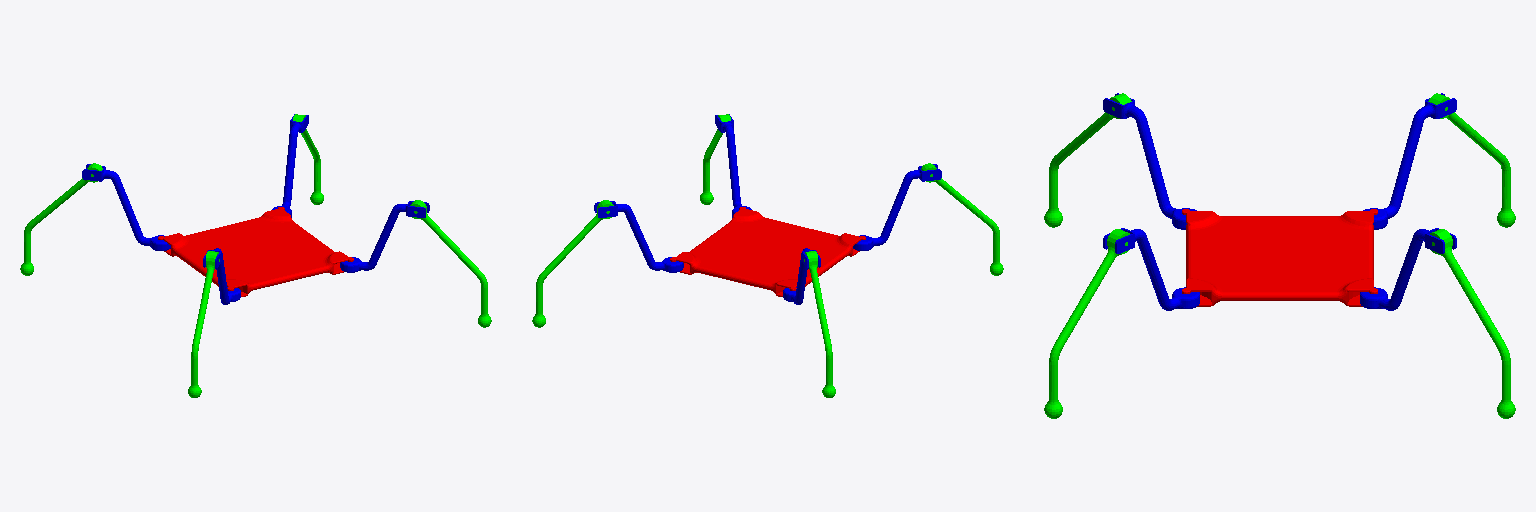
The robot description file, URDF, robot "spiderbot":
<?xml version="1.0" encoding="utf-8"?>
<!-- This URDF was automatically created by SolidWorks to URDF Exporter! Originally created by [author] ([email redacted]) 
     Commit Version: 1.6.0-4-g7f85cfe  Build Version: 1.6.7995.38578
     For more information, please see http://wiki.ros.org/sw_urdf_exporter -->
<robot
  name="spiderbot">
  <link
    name="base_link">
    <inertial>
      <origin
        xyz="8.8431E-07 -2.8309E-06 0.075"
        rpy="0 0 0" />
      <mass
        value="1.0797" />
      <inertia
        ixx="0.0036422"
        ixy="6.9366E-08"
        ixz="-2.9718E-09"
        iyy="0.0036423"
        iyz="1.993E-08"
        izz="0.0072588" />
    </inertial>
    <visual>
      <origin
        xyz="0 0 0"
        rpy="0 0 0" />
      <geometry>
        <mesh
          filename="package://spiderbot/meshes/base_link.STL" />
      </geometry>
      <material
        name="">
        <color
          rgba="1 0 0 1" />
      </material>
    </visual>
    <collision>
      <origin
        xyz="0 0 0"
        rpy="0 0 0" />
      <geometry>
        <mesh
          filename="package://spiderbot/meshes/base_link.STL" />
      </geometry>
    </collision>
  </link>
  <link
    name="front_right_link0">
    <inertial>
      <origin
        xyz="-1.4232E-08 -0.03892 0.039146"
        rpy="0 0 0" />
      <mass
        value="0.071655" />
      <inertia
        ixx="0.00019551"
        ixy="-3.7597E-12"
        ixz="-1.2218E-11"
        iyy="0.00011898"
        iyz="8.9125E-05"
        izz="8.1036E-05" />
    </inertial>
    <visual>
      <origin
        xyz="0 0 0"
        rpy="0 0 0" />
      <geometry>
        <mesh
          filename="package://spiderbot/meshes/front_right_link0.STL" />
      </geometry>
      <material
        name="">
        <color
          rgba="0 0 1 1" />
      </material>
    </visual>
    <collision>
      <origin
        xyz="0 0 0"
        rpy="0 0 0" />
      <geometry>
        <mesh
          filename="package://spiderbot/meshes/front_right_link0.STL" />
      </geometry>
    </collision>
  </link>
  <joint
    name="joint_front_right_link0"
    type="continuous">
    <origin
      xyz="0.1 -0.1 0.075"
      rpy="0 0 0.7854" />
    <parent
      link="base_link" />
    <child
      link="front_right_link0" />
    <axis
      xyz="0 0 1" />
  </joint>
  <link
    name="front_right_link1">
    <inertial>
      <origin
        xyz="-0.054513 -0.069963 -1.093E-08"
        rpy="0 0 0" />
      <mass
        value="0.069773" />
      <inertia
        ixx="0.00026729"
        ixy="-0.00017233"
        ixz="3.0936E-11"
        iyy="0.0001253"
        iyz="3.4186E-11"
        izz="0.00039089" />
    </inertial>
    <visual>
      <origin
        xyz="0 0 0"
        rpy="0 0 0" />
      <geometry>
        <mesh
          filename="package://spiderbot/meshes/front_right_link1.STL" />
      </geometry>
      <material
        name="">
        <color
          rgba="0 1 0 1" />
      </material>
    </visual>
    <collision>
      <origin
        xyz="0 0 0"
        rpy="0 0 0" />
      <geometry>
        <mesh
          filename="package://spiderbot/meshes/front_right_link1.STL" />
      </geometry>
    </collision>
  </link>
  <joint
    name="joint_front_right_link1"
    type="continuous">
    <origin
      xyz="0 -0.1 0.099999999999999"
      rpy="1.5707963267949 0 1.57079632679489" />
    <parent
      link="front_right_link0" />
    <child
      link="front_right_link1" />
    <axis
      xyz="0 0 1" />
  </joint>
  <link
    name="front_left_link0">
    <inertial>
      <origin
        xyz="-1.4232E-08 -0.03892 0.039146"
        rpy="0 0 0" />
      <mass
        value="0.071655" />
      <inertia
        ixx="0.00019551"
        ixy="-3.7597E-12"
        ixz="-1.2218E-11"
        iyy="0.00011898"
        iyz="8.9125E-05"
        izz="8.1036E-05" />
    </inertial>
    <visual>
      <origin
        xyz="0 0 0"
        rpy="0 0 0" />
      <geometry>
        <mesh
          filename="package://spiderbot/meshes/front_left_link0.STL" />
      </geometry>
      <material
        name="">
        <color
          rgba="0 0 1 1" />
      </material>
    </visual>
    <collision>
      <origin
        xyz="0 0 0"
        rpy="0 0 0" />
      <geometry>
        <mesh
          filename="package://spiderbot/meshes/front_left_link0.STL" />
      </geometry>
    </collision>
  </link>
  <joint
    name="joint_front_left_link0"
    type="continuous">
    <origin
      xyz="0.1 0.1 0.075"
      rpy="0 0 2.35619449019234" />
    <parent
      link="base_link" />
    <child
      link="front_left_link0" />
    <axis
      xyz="0 0 1" />
  </joint>
  <link
    name="front_left_link1">
    <inertial>
      <origin
        xyz="-0.054513 -0.069963 -1.093E-08"
        rpy="0 0 0" />
      <mass
        value="0.069773" />
      <inertia
        ixx="0.00026729"
        ixy="-0.00017233"
        ixz="3.0936E-11"
        iyy="0.0001253"
        iyz="3.4186E-11"
        izz="0.00039089" />
    </inertial>
    <visual>
      <origin
        xyz="0 0 0"
        rpy="0 0 0" />
      <geometry>
        <mesh
          filename="package://spiderbot/meshes/front_left_link1.STL" />
      </geometry>
      <material
        name="">
        <color
          rgba="0 1 0 1" />
      </material>
    </visual>
    <collision>
      <origin
        xyz="0 0 0"
        rpy="0 0 0" />
      <geometry>
        <mesh
          filename="package://spiderbot/meshes/front_left_link1.STL" />
      </geometry>
    </collision>
  </link>
  <joint
    name="joint_front_left_link1"
    type="continuous">
    <origin
      xyz="0 -0.1 0.0999999999999989"
      rpy="1.5707963267949 0 1.5707963267949" />
    <parent
      link="front_left_link0" />
    <child
      link="front_left_link1" />
    <axis
      xyz="0 0 1" />
  </joint>
  <link
    name="rear_left_link0">
    <inertial>
      <origin
        xyz="-1.4232E-08 -0.03892 0.039146"
        rpy="0 0 0" />
      <mass
        value="0.071655" />
      <inertia
        ixx="0.00019551"
        ixy="-3.7597E-12"
        ixz="-1.2218E-11"
        iyy="0.00011898"
        iyz="8.9125E-05"
        izz="8.1036E-05" />
    </inertial>
    <visual>
      <origin
        xyz="0 0 0"
        rpy="0 0 0" />
      <geometry>
        <mesh
          filename="package://spiderbot/meshes/rear_left_link0.STL" />
      </geometry>
      <material
        name="">
        <color
          rgba="0 0 1 1" />
      </material>
    </visual>
    <collision>
      <origin
        xyz="0 0 0"
        rpy="0 0 0" />
      <geometry>
        <mesh
          filename="package://spiderbot/meshes/rear_left_link0.STL" />
      </geometry>
    </collision>
  </link>
  <joint
    name="joint_rear_left_link0"
    type="continuous">
    <origin
      xyz="-0.1 0.0999999999999999 0.075"
      rpy="0 0 -2.35619449019234" />
    <parent
      link="base_link" />
    <child
      link="rear_left_link0" />
    <axis
      xyz="0 0 1" />
  </joint>
  <link
    name="rear_left_link1">
    <inertial>
      <origin
        xyz="-0.054513 -0.069963 -1.093E-08"
        rpy="0 0 0" />
      <mass
        value="0.069773" />
      <inertia
        ixx="0.00026729"
        ixy="-0.00017233"
        ixz="3.0936E-11"
        iyy="0.0001253"
        iyz="3.4186E-11"
        izz="0.00039089" />
    </inertial>
    <visual>
      <origin
        xyz="0 0 0"
        rpy="0 0 0" />
      <geometry>
        <mesh
          filename="package://spiderbot/meshes/rear_left_link1.STL" />
      </geometry>
      <material
        name="">
        <color
          rgba="0 1 0 1" />
      </material>
    </visual>
    <collision>
      <origin
        xyz="0 0 0"
        rpy="0 0 0" />
      <geometry>
        <mesh
          filename="package://spiderbot/meshes/rear_left_link1.STL" />
      </geometry>
    </collision>
  </link>
  <joint
    name="joint_rear_left_link1"
    type="continuous">
    <origin
      xyz="0 -0.1 0.0999999999999991"
      rpy="1.5707963267949 0 1.5707963267949" />
    <parent
      link="rear_left_link0" />
    <child
      link="rear_left_link1" />
    <axis
      xyz="0 0 1" />
  </joint>
  <link
    name="rear_right_link0">
    <inertial>
      <origin
        xyz="-1.4232E-08 -0.03892 0.039146"
        rpy="0 0 0" />
      <mass
        value="0.071655" />
      <inertia
        ixx="0.00019551"
        ixy="-3.7597E-12"
        ixz="-1.2218E-11"
        iyy="0.00011898"
        iyz="8.9125E-05"
        izz="8.1036E-05" />
    </inertial>
    <visual>
      <origin
        xyz="0 0 0"
        rpy="0 0 0" />
      <geometry>
        <mesh
          filename="package://spiderbot/meshes/rear_right_link0.STL" />
      </geometry>
      <material
        name="">
        <color
          rgba="0 0 1 1" />
      </material>
    </visual>
    <collision>
      <origin
        xyz="0 0 0"
        rpy="0 0 0" />
      <geometry>
        <mesh
          filename="package://spiderbot/meshes/rear_right_link0.STL" />
      </geometry>
    </collision>
  </link>
  <joint
    name="joint_rear_right_link0"
    type="continuous">
    <origin
      xyz="-0.1 -0.1 0.075"
      rpy="0 0 -0.7854" />
    <parent
      link="base_link" />
    <child
      link="rear_right_link0" />
    <axis
      xyz="0 0 1" />
  </joint>
  <link
    name="rear_right_link1">
    <inertial>
      <origin
        xyz="-0.054513 -0.069963 -1.093E-08"
        rpy="0 0 0" />
      <mass
        value="0.069773" />
      <inertia
        ixx="0.00026729"
        ixy="-0.00017233"
        ixz="3.0936E-11"
        iyy="0.0001253"
        iyz="3.4186E-11"
        izz="0.00039089" />
    </inertial>
    <visual>
      <origin
        xyz="0 0 0"
        rpy="0 0 0" />
      <geometry>
        <mesh
          filename="package://spiderbot/meshes/rear_right_link1.STL" />
      </geometry>
      <material
        name="">
        <color
          rgba="0 1 0 1" />
      </material>
    </visual>
    <collision>
      <origin
        xyz="0 0 0"
        rpy="0 0 0" />
      <geometry>
        <mesh
          filename="package://spiderbot/meshes/rear_right_link1.STL" />
      </geometry>
    </collision>
  </link>
  <joint
    name="joint_rear_right_link1"
    type="continuous">
    <origin
      xyz="0 -0.1 0.1"
      rpy="1.5708 0 1.5708" />
    <parent
      link="rear_right_link0" />
    <child
      link="rear_right_link1" />
    <axis
      xyz="0 0 1" />
  </joint>

    <!--Transmission Definitions -->
 <!--Transmission Front Right Links -->
 <transmission name="transmission_front_right_link0">
  <type>SimpleTransmission</type>
  <joint name="joint_front_right_link0">
    <hardwareInterface>hardware_interface/EffortJointInterface</hardwareInterface>
  </joint>
  <actuator name="motor_front_right_link0">
    <mechanicalReduction>1</mechanicalReduction>
    <hardwareInterface>VelocityJointInterface</hardwareInterface>
  </actuator>
</transmission>

<transmission name="transmission_front_right_link1">
  <type>SimpleTransmission</type>
  <joint name="joint_front_right_link1">
    <hardwareInterface>hardware_interface/EffortJointInterface</hardwareInterface>
  </joint>
  <actuator name="motor_front_right_link1">
    <mechanicalReduction>1</mechanicalReduction>
    <hardwareInterface>VelocityJointInterface</hardwareInterface>
  </actuator>
</transmission>

<!--Transmission Front Left Links -->
<transmission name="transmission_front_left_link0">
  <type>SimpleTransmission</type>
  <joint name="joint_front_left_link0">
    <hardwareInterface>hardware_interface/EffortJointInterface</hardwareInterface>
  </joint>
  <actuator name="motor_front_left_link0">
    <mechanicalReduction>1</mechanicalReduction>
    <hardwareInterface>VelocityJointInterface</hardwareInterface>
  </actuator>
</transmission>

<transmission name="transmission_front_left_link1">
  <type>SimpleTransmission</type>
  <joint name="joint_front_left_link1">
    <hardwareInterface>hardware_interface/EffortJointInterface</hardwareInterface>
  </joint>
  <actuator name="motor_front_left_link1">
    <mechanicalReduction>1</mechanicalReduction>
    <hardwareInterface>VelocityJointInterface</hardwareInterface>
  </actuator>
</transmission>

  <!--Transmission Rear Right Links -->
<transmission name="transmission_rear_right_link0">
  <type>SimpleTransmission</type>
  <joint name="joint_rear_right_link0">
    <hardwareInterface>hardware_interface/EffortJointInterface</hardwareInterface>
  </joint>
  <actuator name="motor_rear_right_link0">
    <mechanicalReduction>1</mechanicalReduction>
    <hardwareInterface>VelocityJointInterface</hardwareInterface>
  </actuator>
</transmission>

<transmission name="transmission_rear_right_link1">
  <type>SimpleTransmission</type>
  <joint name="joint_rear_right_link1">
    <hardwareInterface>hardware_interface/EffortJointInterface</hardwareInterface>
  </joint>
  <actuator name="motor_rear_right_link1">
    <mechanicalReduction>1</mechanicalReduction>
    <hardwareInterface>VelocityJointInterface</hardwareInterface>
  </actuator>
</transmission>

<!--Transmission Rear Left Links -->
<transmission name="transmission_rear_left_link0">
  <type>SimpleTransmission</type>
  <joint name="joint_rear_left_link0">
    <hardwareInterface>hardware_interface/EffortJointInterface</hardwareInterface>
  </joint>
  <actuator name="motor_rear_left_link0">
    <mechanicalReduction>1</mechanicalReduction>
    <hardwareInterface>VelocityJointInterface</hardwareInterface>
  </actuator>
</transmission>

<transmission name="transmission_rear_left_link1">
  <type>SimpleTransmission</type>
  <joint name="joint_rear_left_link1">
    <hardwareInterface>hardware_interface/EffortJointInterface</hardwareInterface>
  </joint>
  <actuator name="motor_rear_left_link1">
    <mechanicalReduction>1</mechanicalReduction>
    <hardwareInterface>VelocityJointInterface</hardwareInterface>
  </actuator>
</transmission>
</robot>

--- Render facts (derived) ---
3 views of the same robot in one strip: view 1: azimuth 30°, elevation 25°; view 2: azimuth 150°, elevation 25°; view 3: azimuth 270°, elevation 25° (orthographic).
Robot: spiderbot — 9 links, 8 joints (8 continuous); root link base_link; default pose: all joints at 0.
Links seen in each view (by area): view 1: base_link, rear_left_link0, front_right_link0, rear_right_link1, front_right_link1, rear_left_link1, front_left_link0, front_left_link1, rear_right_link0; view 2: base_link, rear_right_link0, front_left_link0, rear_left_link1, front_left_link1, rear_right_link1, front_right_link0, front_right_link1, rear_left_link0; view 3: base_link, front_right_link1, front_left_link1, rear_left_link0, rear_right_link0, front_right_link0, front_left_link0, rear_left_link1, rear_right_link1.
Boxes of the visible links, x1=… form: base_link: x1=158, y1=207, x2=353, y2=296; rear_left_link0: x1=82, y1=164, x2=170, y2=250; front_right_link0: x1=340, y1=201, x2=429, y2=272; rear_right_link1: x1=188, y1=251, x2=219, y2=397; front_right_link1: x1=410, y1=200, x2=491, y2=327; rear_left_link1: x1=20, y1=163, x2=102, y2=275; front_left_link0: x1=272, y1=114, x2=308, y2=217; front_left_link1: x1=293, y1=114, x2=323, y2=204; rear_right_link0: x1=203, y1=248, x2=240, y2=304; base_link: x1=670, y1=207, x2=865, y2=296; rear_right_link0: x1=853, y1=164, x2=941, y2=250; front_left_link0: x1=594, y1=201, x2=683, y2=272; rear_left_link1: x1=804, y1=251, x2=835, y2=397; front_left_link1: x1=532, y1=200, x2=613, y2=327; rear_right_link1: x1=921, y1=163, x2=1003, y2=275; front_right_link0: x1=715, y1=114, x2=751, y2=217; front_right_link1: x1=700, y1=114, x2=730, y2=204; rear_left_link0: x1=783, y1=248, x2=820, y2=304; base_link: x1=1182, y1=209, x2=1377, y2=306; front_right_link1: x1=1044, y1=229, x2=1129, y2=418; front_left_link1: x1=1430, y1=229, x2=1515, y2=418; rear_left_link0: x1=1363, y1=93, x2=1456, y2=229; rear_right_link0: x1=1103, y1=93, x2=1196, y2=229; front_right_link0: x1=1103, y1=228, x2=1199, y2=310; front_left_link0: x1=1360, y1=228, x2=1456, y2=310; rear_left_link1: x1=1428, y1=93, x2=1515, y2=227; rear_right_link1: x1=1044, y1=93, x2=1131, y2=227.
Bounding box of the posed robot: 0.5024 × 0.5024 × 0.1868 m (x, y, z).
Meshes: 9 distinct files referenced, 9 mesh visuals loaded (9 binary STL).
